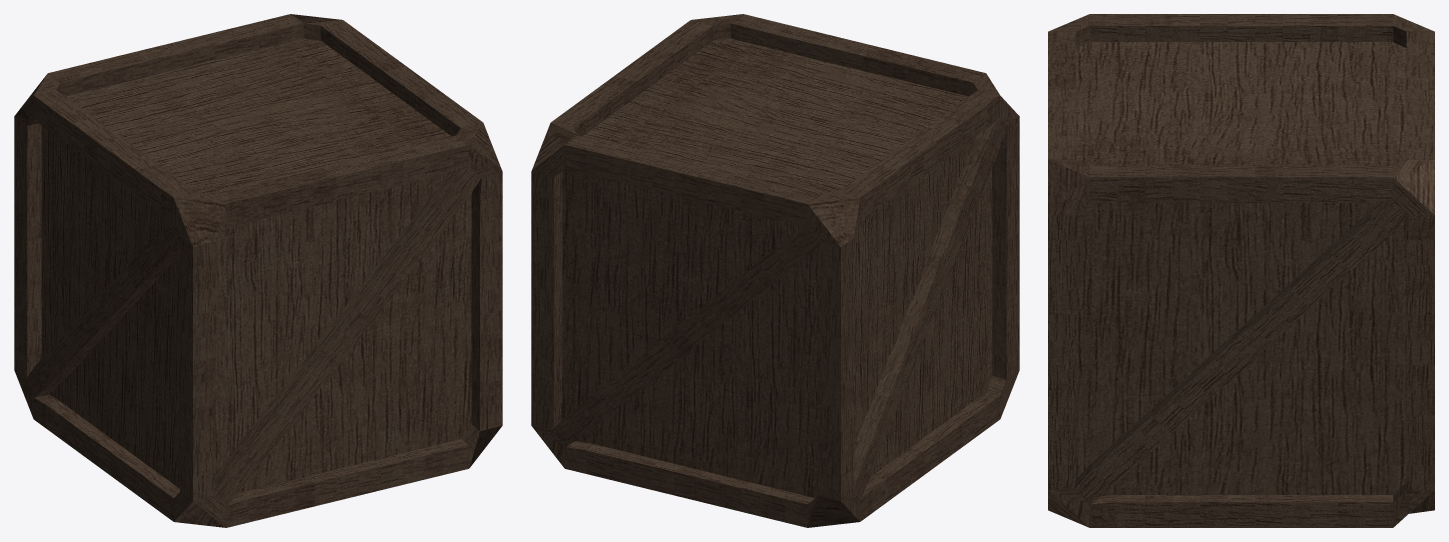
Rendered from Caixa.fbx.
3 views of the same model, side by side, from view 1: azimuth 30°, elevation 25°; view 2: azimuth 150°, elevation 25°; view 3: azimuth 270°, elevation 25° (orthographic). The views are drawn at different scales.
Parts seen in each view (by area): view 1: Cube.001, Cube; view 2: Cube.001, Cube; view 3: Cube.001, Cube.
Part boxes in pixels (box(x1,y1,x2,y2)): Cube.001: box(41, 38, 471, 493); Cube: box(14, 14, 502, 527); Cube.001: box(560, 38, 992, 497); Cube: box(531, 14, 1019, 527); Cube.001: box(1075, 42, 1407, 495); Cube: box(1048, 14, 1434, 527).
Bounding box in the file's own units: 216 × 216 × 216.
2 materials, 2 textured.
